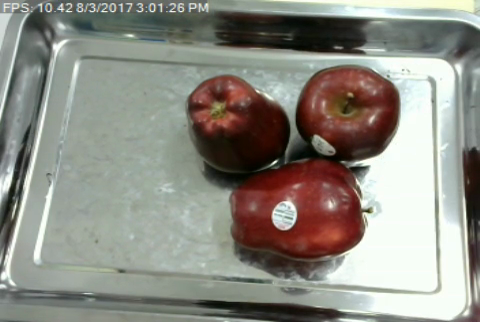Apple: (225, 153, 371, 264), (183, 67, 290, 176), (295, 64, 402, 162)
